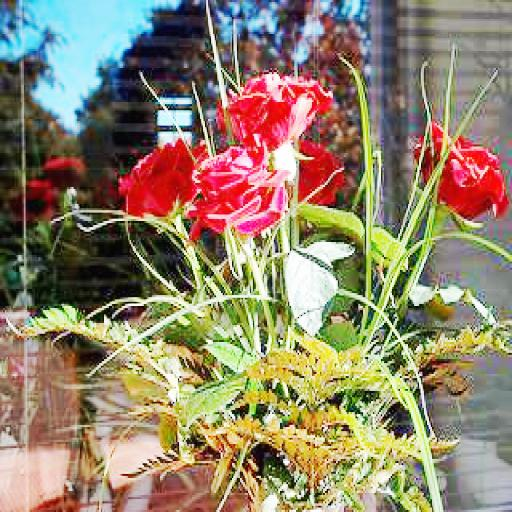rose: (414, 121, 508, 221), (221, 70, 333, 151), (197, 142, 286, 238), (118, 138, 192, 217)
